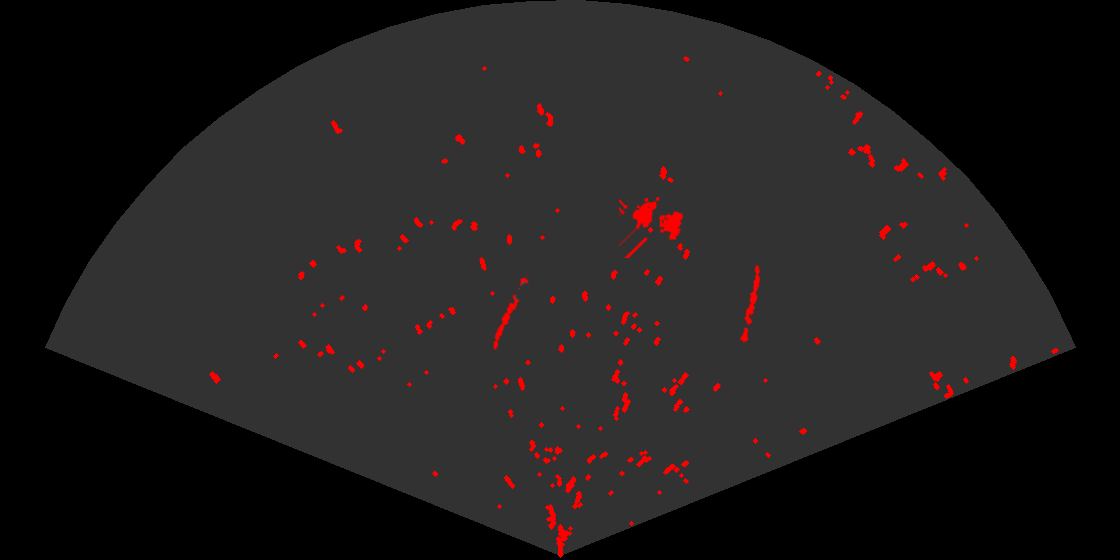cage: (619, 195, 685, 258)
chain: (492, 269, 532, 352), (738, 263, 762, 346)
